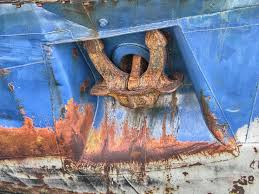rust: (3, 126, 236, 163), (97, 67, 182, 99), (70, 46, 79, 59)
